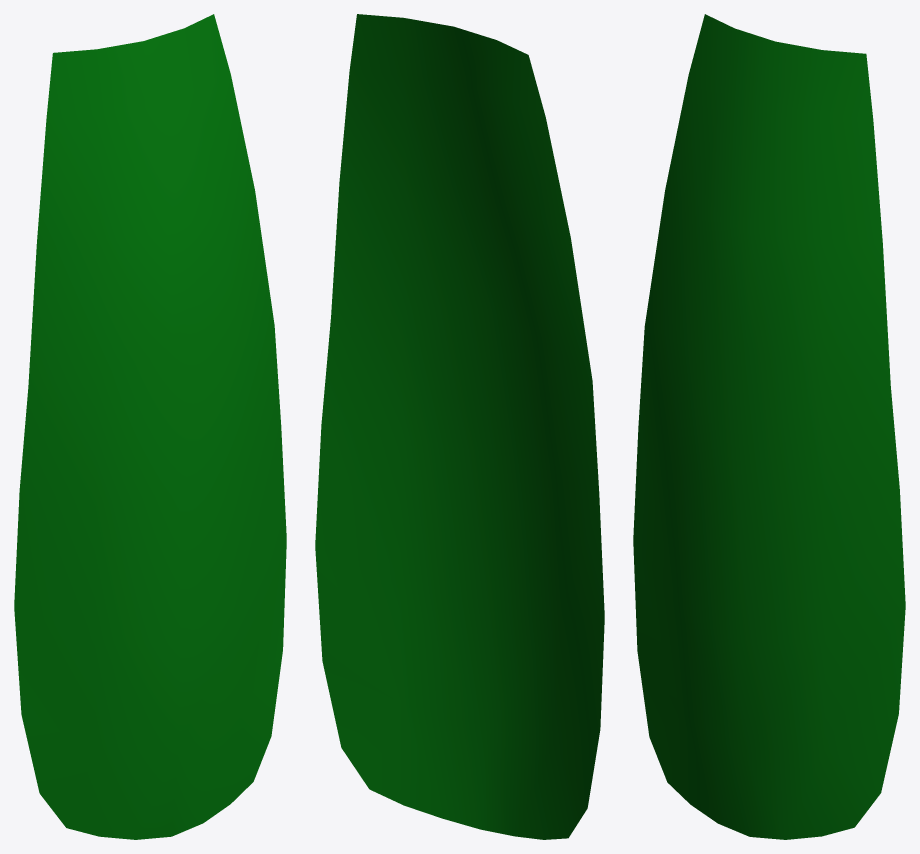
Rendered from MD_nail_square_HandL.Middle.fbx.
3 renders of one model, left to right at view 1: azimuth 30°, elevation 25°; view 2: azimuth 150°, elevation 25°; view 3: azimuth 330°, elevation 25°, orthographic. The views are drawn at different scales.
Visible parts, largest first — view 1: MD_nail_square_HandL.Middle; view 2: MD_nail_square_HandL.Middle; view 3: MD_nail_square_HandL.Middle.
Boxes of the visible parts, x1,y1,x2,y2 form: MD_nail_square_HandL.Middle: [14, 14, 286, 839]; MD_nail_square_HandL.Middle: [315, 14, 604, 839]; MD_nail_square_HandL.Middle: [633, 14, 905, 839].
Size of the model in its own units: 0.7587 by 2.07 by 0.2252.
